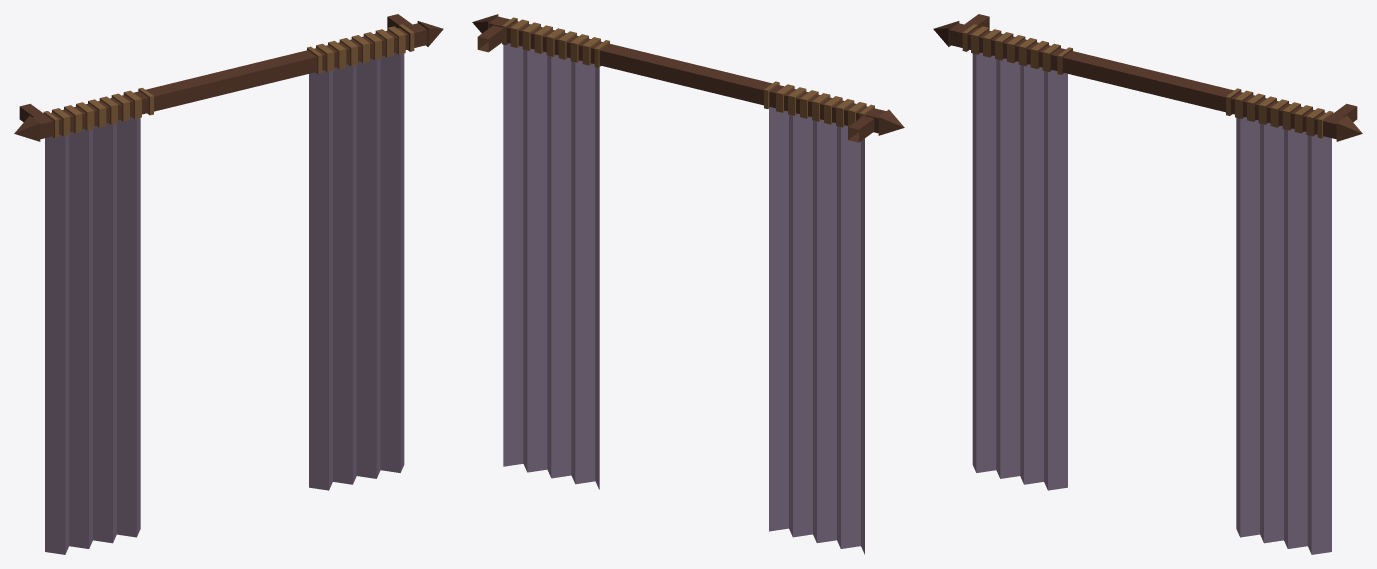
The model's file is Curtain_3A.fbx.
3 views of the same model, side by side, from view 1: azimuth 30°, elevation 25°; view 2: azimuth 150°, elevation 25°; view 3: azimuth 330°, elevation 25° (orthographic).
Parts seen in each view (by area): view 1: polySurface785; view 2: polySurface785; view 3: polySurface785.
Part boxes in pixels (x1,y1,x2,y2): polySurface785: (14,14,443,554); polySurface785: (472,14,904,554); polySurface785: (933,14,1362,554).
Size of the model in its own units: 3.16 by 3.08 by 0.3278.
Materials: 1 (1 with a texture image).
